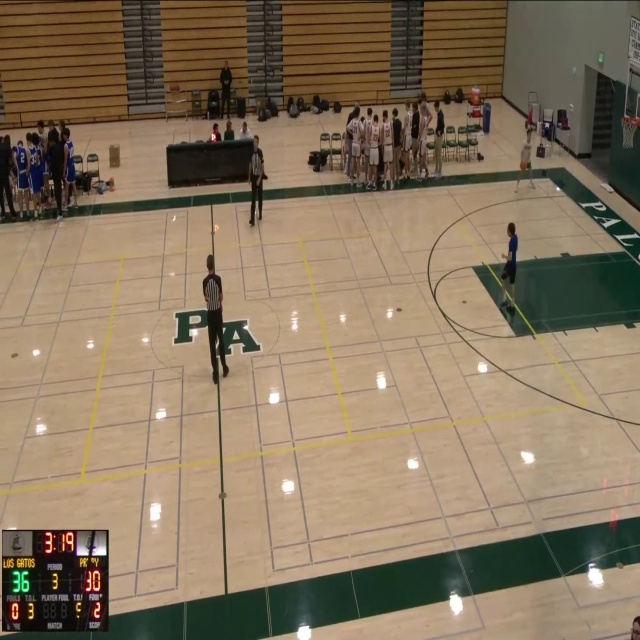Basketball: (520, 162, 526, 170)
